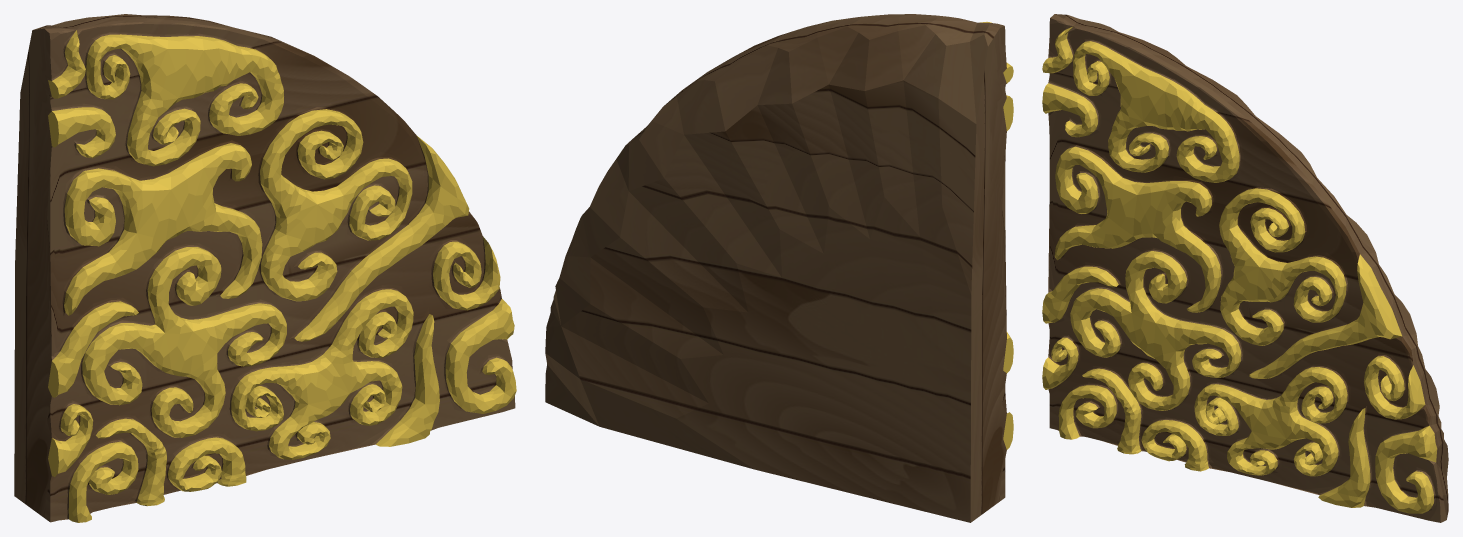
The model's file is exit.glb.
3 views of the same model, side by side, from view 1: azimuth 30°, elevation 25°; view 2: azimuth 150°, elevation 25°; view 3: azimuth 330°, elevation 25° (orthographic). The views are drawn at different scales.
Visible parts, largest first — view 1: NewTreeGate; view 2: NewTreeGate; view 3: NewTreeGate.
Boxes of the visible parts, left/top/right/bottom form: NewTreeGate: left=14, top=14, right=516, bottom=522; NewTreeGate: left=545, top=14, right=1013, bottom=522; NewTreeGate: left=1042, top=14, right=1448, bottom=522.
Size of the model in its own units: 15 by 15 by 2.5.
Materials: 2 (1 with a texture image).
